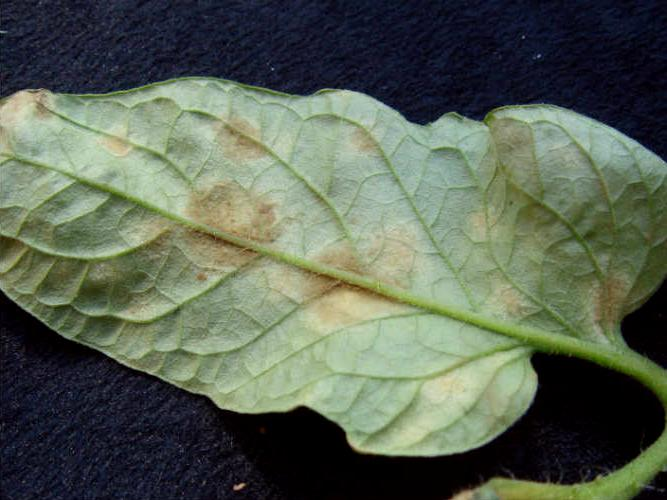Tomato mold leaf: (0, 65, 662, 470)
